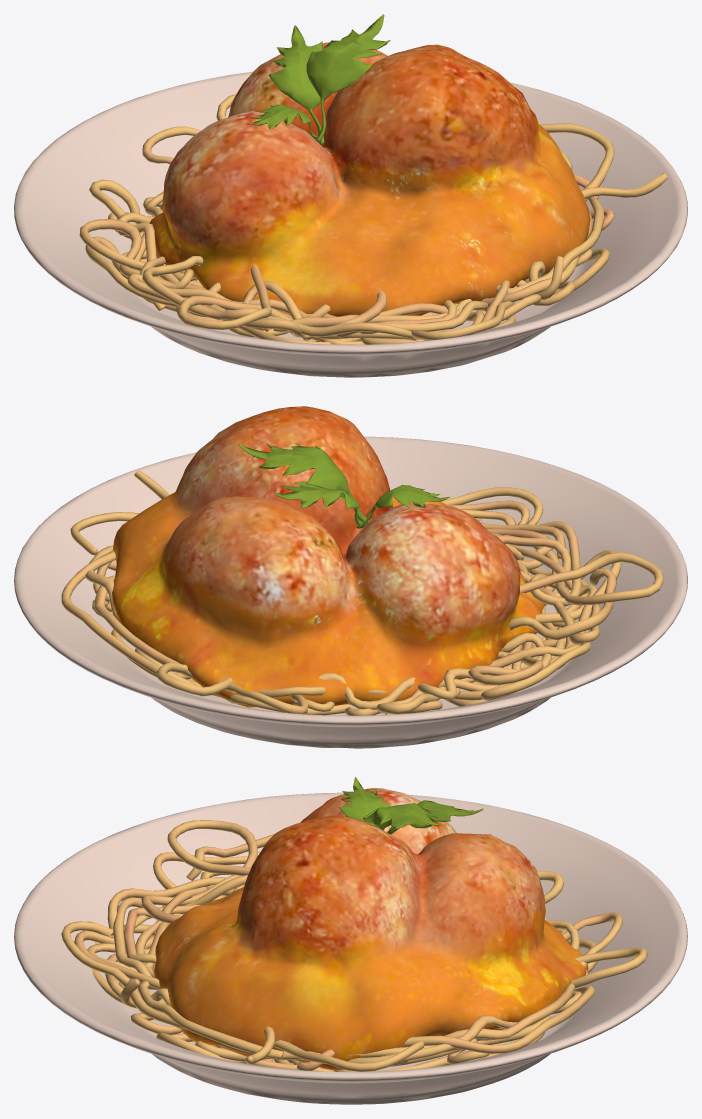
The model's file is Pasta-optimized.glb.
3 views of the same model, one above another, from view 1: azimuth 30°, elevation 25°; view 2: azimuth 150°, elevation 25°; view 3: azimuth 270°, elevation 25° (orthographic).
Parts seen in each view (by area): view 1: pasta.1; view 2: pasta.1; view 3: pasta.1.
Part boxes in pixels (bbox=[...]): pasta.1: bbox=[14, 14, 687, 377]; pasta.1: bbox=[14, 406, 687, 748]; pasta.1: bbox=[14, 777, 687, 1104].
Bounding box in the file's own units: 0.3256 × 0.1186 × 0.3256.
Materials: 1 (1 with a texture image).
